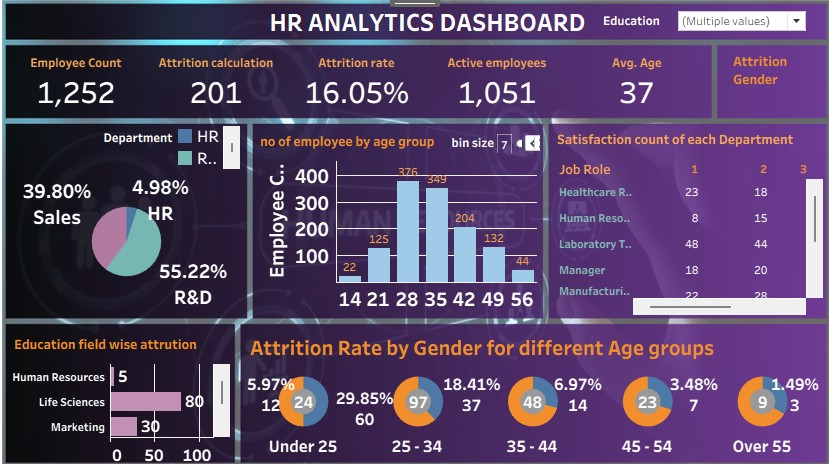

The dashboard page shown, as its layout file describes it:
{"tool":"tableau","page":{"name":"HR Analytics","canvas":[1580,900],"ordinal":0},"visuals":[{"type":"image","param":"Image/HR background.pptx.png","box":[8,8,1564,884]},{"type":"filter","title":"no of employee by age group","param":"[federated.19as52i1ot9ayo170l57f00coa6f].[none:Education:nk]","box":[1325,22,160,138]},{"type":"text","box":[640,31,510,46]},{"type":"worksheet","title":"Attrition Gender","mark":"Automatic","rows":["Gender"],"cols":["Calculation_0587995867336704","Calculation_0587995867336704"],"box":[1361,102,193,124]},{"type":"worksheet","title":"KPI","mark":"Automatic","box":[26,103,1315,123]},{"type":"worksheet","title":"no of employee by age group","mark":"Automatic","rows":["Employee Count"],"cols":["Age (bin)"],"box":[494,247,521,349]},{"type":"legend","title":"Department widse attrition","param":"[federated.19as52i1ot9ayo170l57f00coa6f].[none:Department:nk]","box":[327,253,140,103]},{"type":"worksheet","title":"Sheet 5","mark":"Automatic","rows":["Job Role"],"cols":["Job Satisfaction"],"box":[1046,253,509,347]},{"type":"parameter","param":"[Parameters].[Parameter 1]","box":[824,256,182,40]},{"type":"worksheet","title":"Department widse attrition","mark":"Pie","box":[42,289,386,302]},{"type":"worksheet","title":"Attrition rate by gender for different age groups ","mark":"Pie","rows":["Calculation_0456054741401601","Calculation_0456054741401601"],"cols":["CF_age band"],"box":[469,626,1086,245]},{"type":"worksheet","title":"Sheet 6","mark":"Automatic","rows":["Education Field"],"cols":["Calculation_0587995867336704"],"box":[27,630,415,241]}]}

Visuals, with their boxes in screenshot pixels (x1, y1, x2, y2), scaled from the page's 1580x900 canvas onto the 829x464 screenshot:
image: x1=4 y1=4 x2=825 y2=460
"no of employee by age group" filter: x1=695 y1=11 x2=779 y2=82
text: x1=336 y1=16 x2=603 y2=40
"Attrition Gender" worksheet: x1=714 y1=53 x2=815 y2=117
"KPI" worksheet: x1=14 y1=53 x2=704 y2=117
"no of employee by age group" worksheet: x1=259 y1=127 x2=533 y2=307
"Department widse attrition" legend: x1=172 y1=130 x2=245 y2=184
"Sheet 5" worksheet: x1=549 y1=130 x2=816 y2=309
parameter: x1=432 y1=132 x2=528 y2=153
"Department widse attrition" worksheet (Pie marks): x1=22 y1=149 x2=225 y2=305
"Attrition rate by gender for different age groups " worksheet (Pie marks): x1=246 y1=323 x2=816 y2=449
"Sheet 6" worksheet: x1=14 y1=325 x2=232 y2=449
